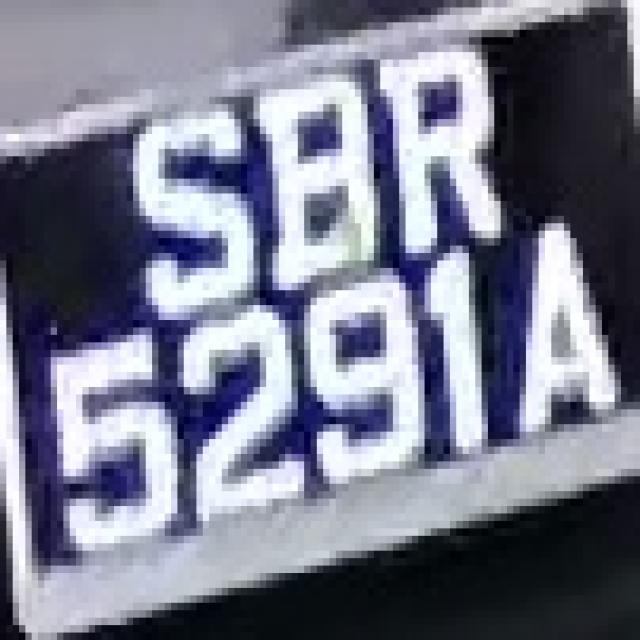1: (405, 231, 507, 484)
2: (171, 298, 311, 528)
5: (25, 320, 184, 566)
9: (279, 268, 431, 491)
A: (501, 194, 621, 462)
B: (235, 60, 380, 312)
R: (355, 29, 507, 246)
S: (121, 97, 247, 320)
